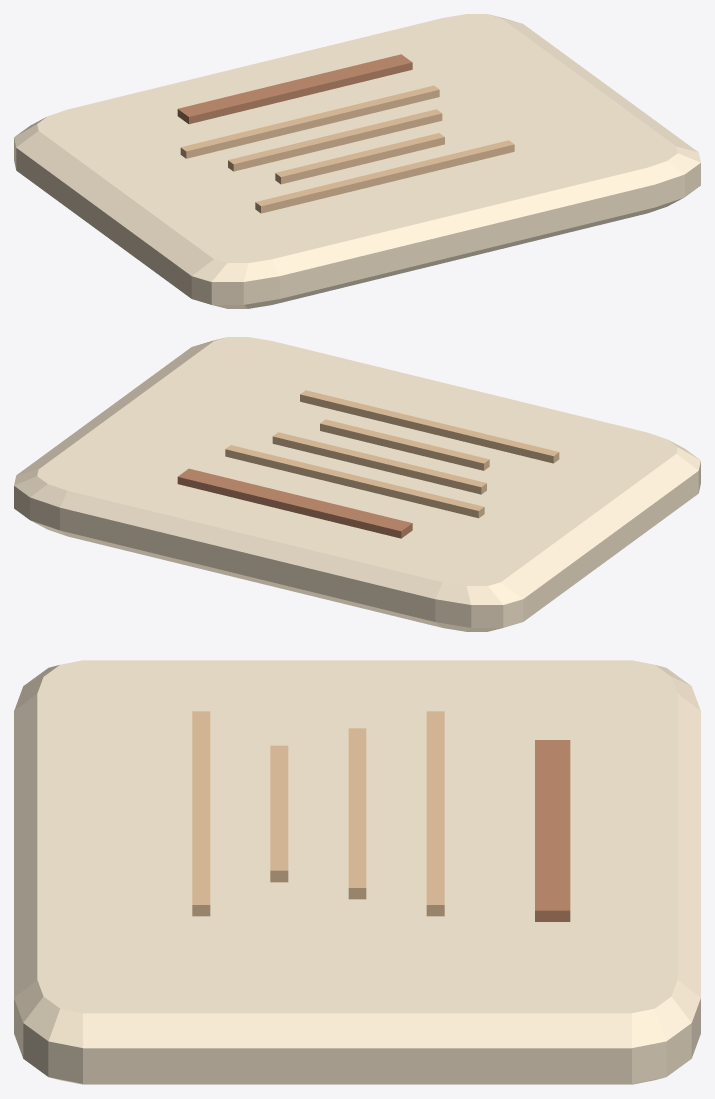
Rendered from delivery_label.glb.
The picture shows the model from 3 angles, top to bottom: view 1: azimuth 30°, elevation 25°; view 2: azimuth 150°, elevation 25°; view 3: azimuth 270°, elevation 25°; orthographic projection. The views are drawn at different scales.
Parts seen in each view (by area): view 1: model; view 2: model; view 3: model.
Part boxes in pixels (x1=…): model: x1=14, y1=14, x2=700, y2=308; model: x1=14, y1=337, x2=700, y2=631; model: x1=14, y1=660, x2=700, y2=1084.
Size of the model in its own units: 0.2 by 0.02 by 0.15.
